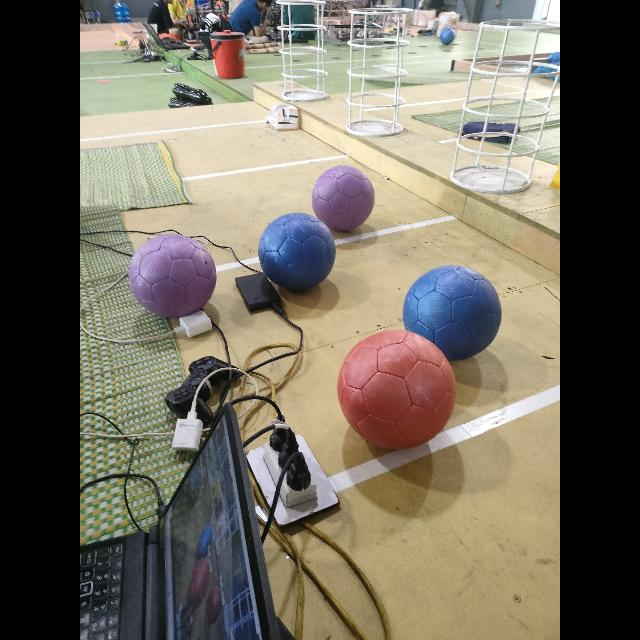B: (403, 266, 501, 360), (259, 212, 335, 290)
P: (128, 233, 215, 317), (312, 166, 374, 230)
R: (337, 330, 455, 448)
